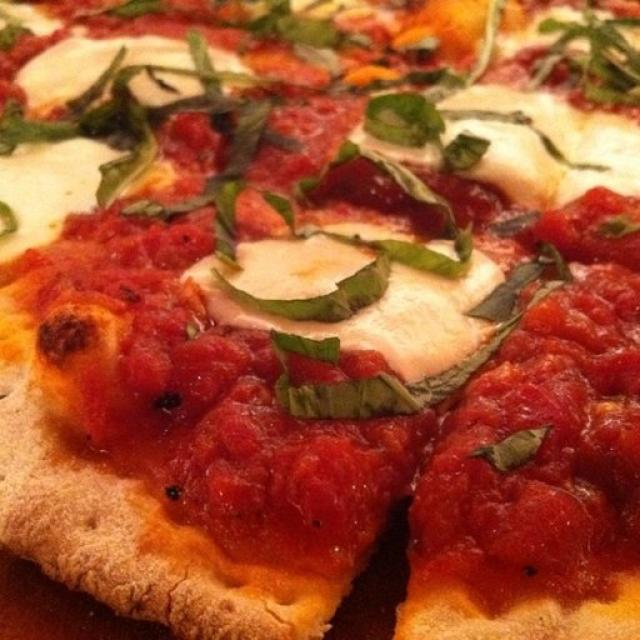Basil: (278, 316, 519, 419), (0, 46, 152, 155), (213, 254, 391, 322), (437, 107, 611, 172), (531, 4, 640, 106), (96, 132, 158, 208), (469, 261, 544, 321), (364, 92, 445, 146), (246, 0, 339, 47), (372, 239, 469, 278), (211, 111, 305, 150), (222, 103, 270, 178), (178, 30, 222, 110), (472, 427, 550, 471), (362, 67, 473, 92), (121, 193, 216, 219), (215, 180, 244, 265), (272, 331, 340, 364), (166, 73, 266, 94), (538, 241, 577, 285), (444, 134, 490, 170), (263, 191, 295, 232), (489, 213, 540, 236), (590, 216, 638, 239), (110, 0, 161, 17), (0, 25, 34, 49)
